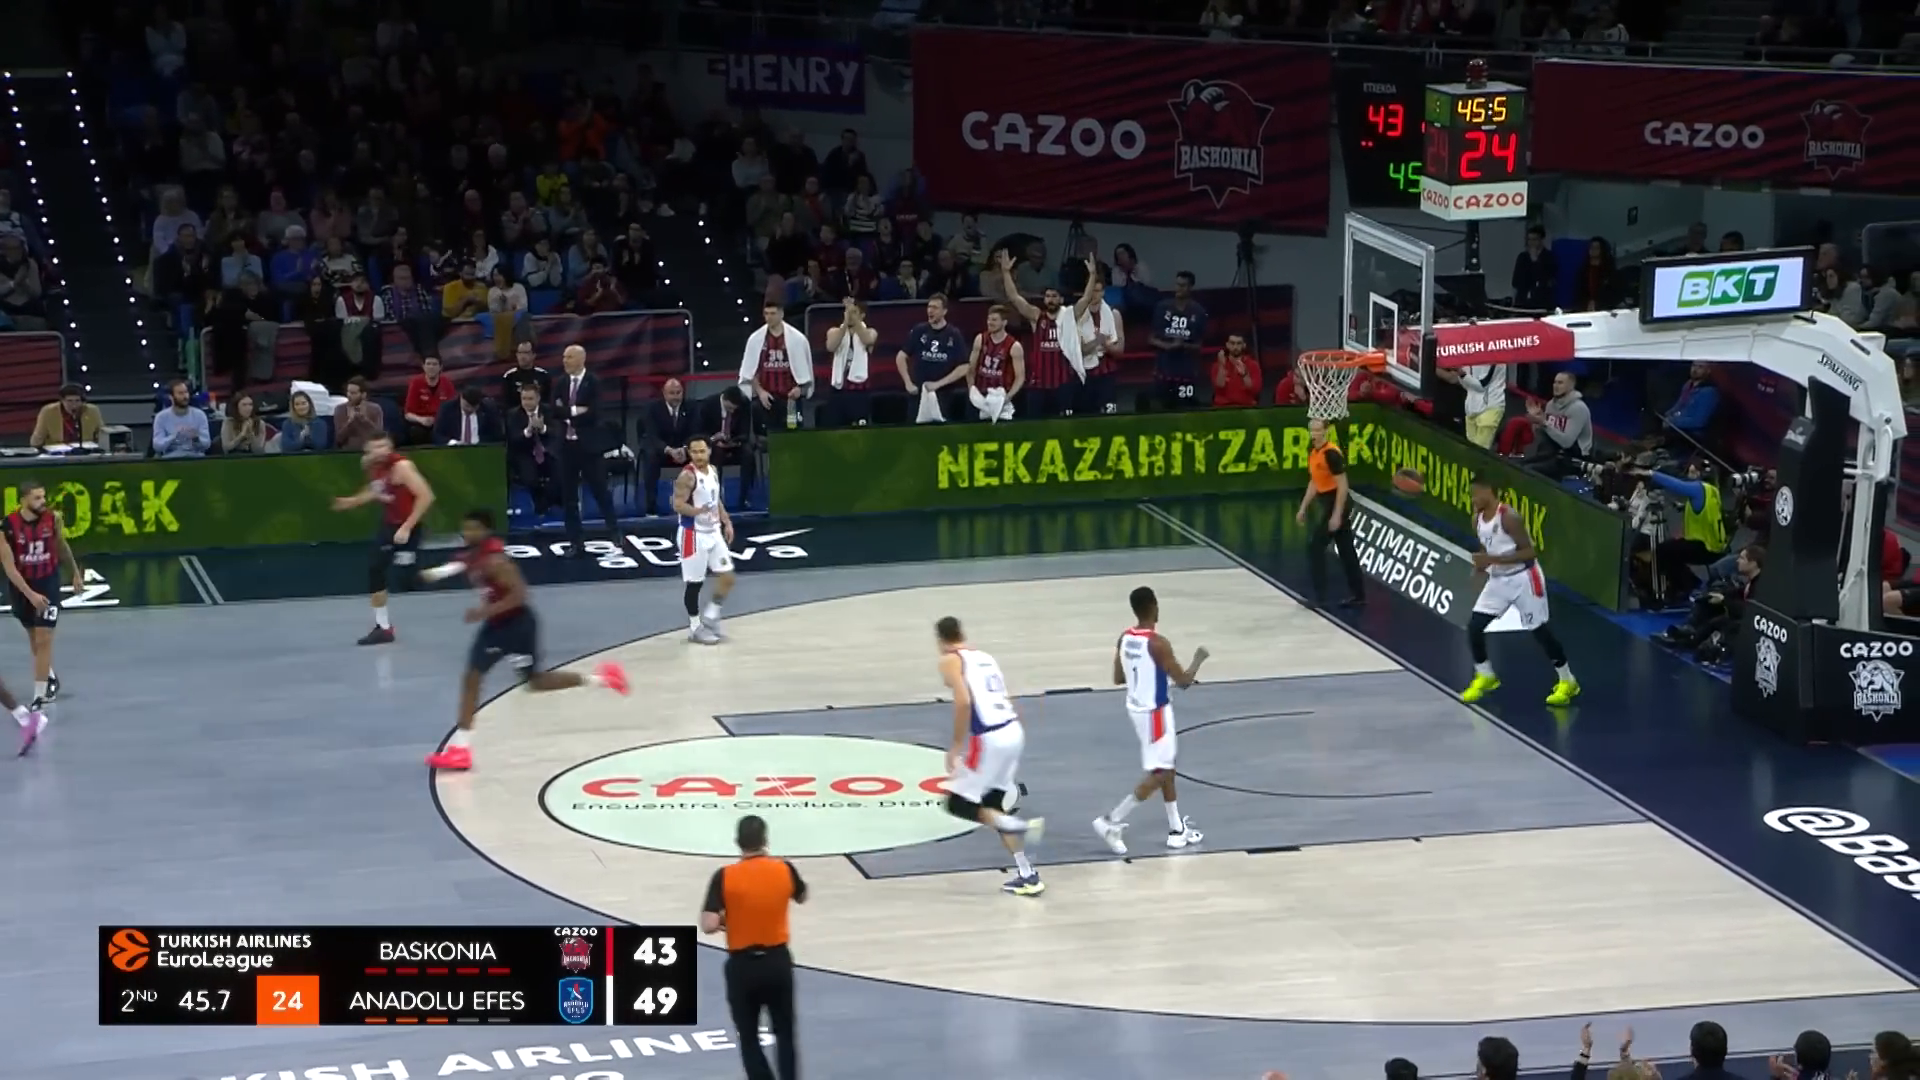ball: (1389, 462, 1424, 501)
net: (1292, 345, 1361, 423)
